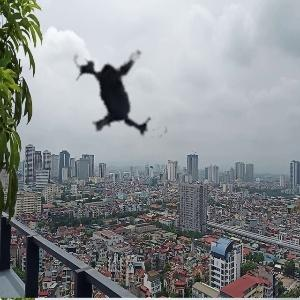drone: (52, 24, 189, 161)
